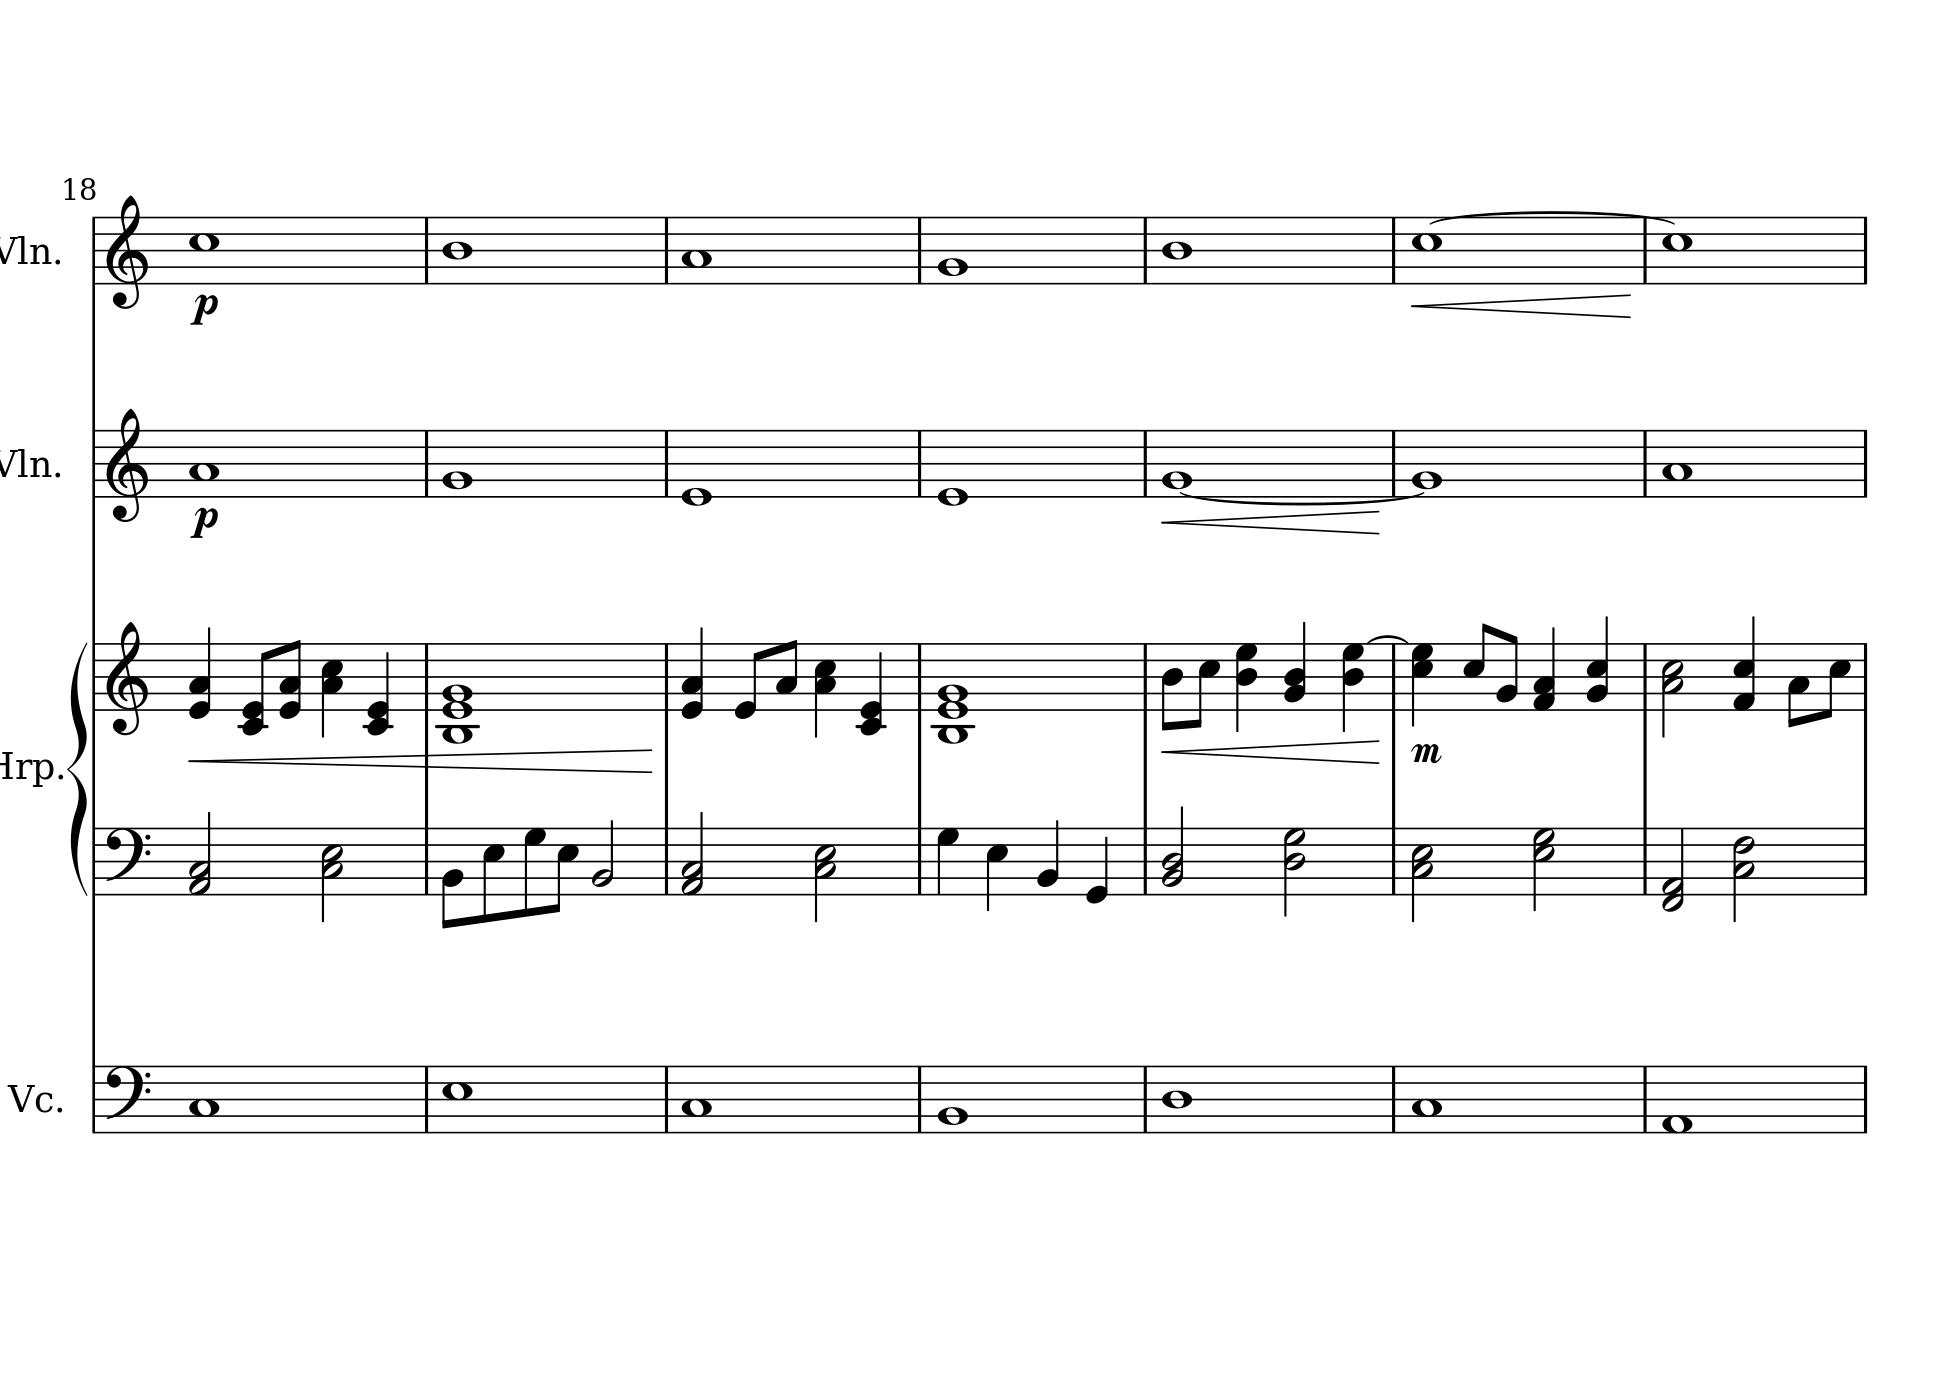1: (61, 174, 76, 202)
1_0: (679, 424, 714, 508), (936, 426, 970, 508)
1_1: (1660, 1063, 1695, 1135)
1_2: (934, 213, 970, 286), (439, 426, 475, 499), (1159, 426, 1195, 499), (1410, 426, 1446, 499), (934, 1062, 970, 1135)
1_3: (679, 214, 712, 285), (187, 426, 220, 496), (187, 1063, 220, 1134), (679, 1063, 711, 1134), (1411, 1063, 1443, 1134), (1662, 427, 1692, 499)
1_4: (1159, 1062, 1194, 1135), (1159, 214, 1194, 285), (439, 213, 472, 285)
1_5: (1660, 214, 1695, 286), (187, 213, 220, 283), (1410, 214, 1443, 285), (441, 1063, 472, 1135)
1_th: (436, 642, 478, 748), (931, 642, 973, 745)
2_-1_1: (1662, 826, 1687, 912)
2_1_3: (187, 810, 213, 898), (679, 811, 705, 897)
2_2: (591, 817, 616, 895)
2_2_4: (1158, 805, 1188, 897)
2_3_5: (811, 825, 838, 925), (1410, 826, 1437, 925), (319, 825, 345, 925), (1662, 642, 1686, 738)
2_3_6: (1731, 825, 1758, 925)
2_4_7: (1282, 825, 1309, 919)
2_5_7: (1530, 825, 1557, 913)
4_-2_0: (361, 642, 394, 736), (856, 642, 888, 736)
4_0: (1086, 825, 1111, 904)
4_0_3: (186, 624, 214, 718), (679, 625, 706, 720)
4_1_3: (1530, 625, 1558, 712)
4_1_5: (1731, 613, 1758, 712)
4_2: (1035, 817, 1062, 895)
4_2_4: (1282, 622, 1308, 712)
4_2_5: (1585, 616, 1614, 712)
4_3_5: (319, 640, 345, 739), (813, 642, 838, 739)
4_4_7: (1233, 642, 1260, 736), (1341, 640, 1365, 735)
4_5: (984, 823, 1009, 913)
4_5_7: (1410, 642, 1437, 729)
4_7: (934, 826, 961, 895)
8: (78, 174, 96, 201)
8_-2_0: (235, 642, 274, 735)
8_0: (732, 642, 763, 721)
8_0_3: (276, 637, 306, 721)
8_2: (439, 825, 463, 933), (1495, 630, 1519, 712)
8_3: (1785, 642, 1810, 729), (774, 637, 798, 712)
8_4: (1161, 640, 1185, 730)
8_5: (1462, 621, 1492, 712), (1191, 640, 1221, 730), (550, 825, 580, 913), (480, 825, 505, 924), (1822, 640, 1852, 718)
8_7: (522, 825, 546, 916)
Brace: (67, 637, 88, 895)
Crescendo_hairpin: (190, 748, 652, 775), (1164, 739, 1381, 765), (1413, 295, 1632, 319)
Fclef: (103, 1063, 151, 1135), (103, 826, 151, 897)
Gclef: (103, 192, 151, 310), (103, 405, 150, 523), (103, 619, 150, 736)
Hrp: (1, 744, 52, 790)
Single_barline: (657, 643, 676, 709), (910, 826, 930, 892), (1386, 642, 1404, 711), (1137, 643, 1155, 711), (418, 826, 436, 894), (1137, 826, 1155, 894), (910, 217, 928, 283), (1137, 217, 1155, 283), (1386, 217, 1404, 283), (910, 430, 928, 496), (1137, 430, 1155, 496), (417, 643, 435, 709), (910, 643, 928, 709), (1636, 1066, 1654, 1132), (910, 1066, 928, 1131), (1137, 1066, 1155, 1131), (1384, 430, 1402, 493), (1857, 216, 1873, 283), (658, 826, 675, 894), (85, 1065, 102, 1132), (1857, 1065, 1873, 1132), (418, 217, 435, 283), (658, 217, 675, 283), (658, 430, 675, 496), (1638, 430, 1654, 496), (1857, 430, 1873, 496), (418, 430, 435, 496), (1638, 643, 1654, 709), (1386, 826, 1402, 892), (1857, 828, 1873, 894), (418, 1066, 435, 1132), (658, 1066, 675, 1131), (1386, 1066, 1402, 1131), (1858, 642, 1873, 712), (85, 216, 100, 283), (87, 429, 102, 496), (1638, 826, 1653, 894), (88, 826, 102, 895), (1638, 228, 1654, 283), (88, 642, 102, 709)
Slur: (1179, 490, 1428, 508), (1428, 210, 1677, 226), (1368, 633, 1410, 645)
Vc: (4, 1078, 52, 1116)
Vln: (1, 229, 52, 271), (1, 442, 52, 484)
mp: (1408, 739, 1443, 766)
p: (189, 505, 219, 541), (189, 292, 217, 327)
